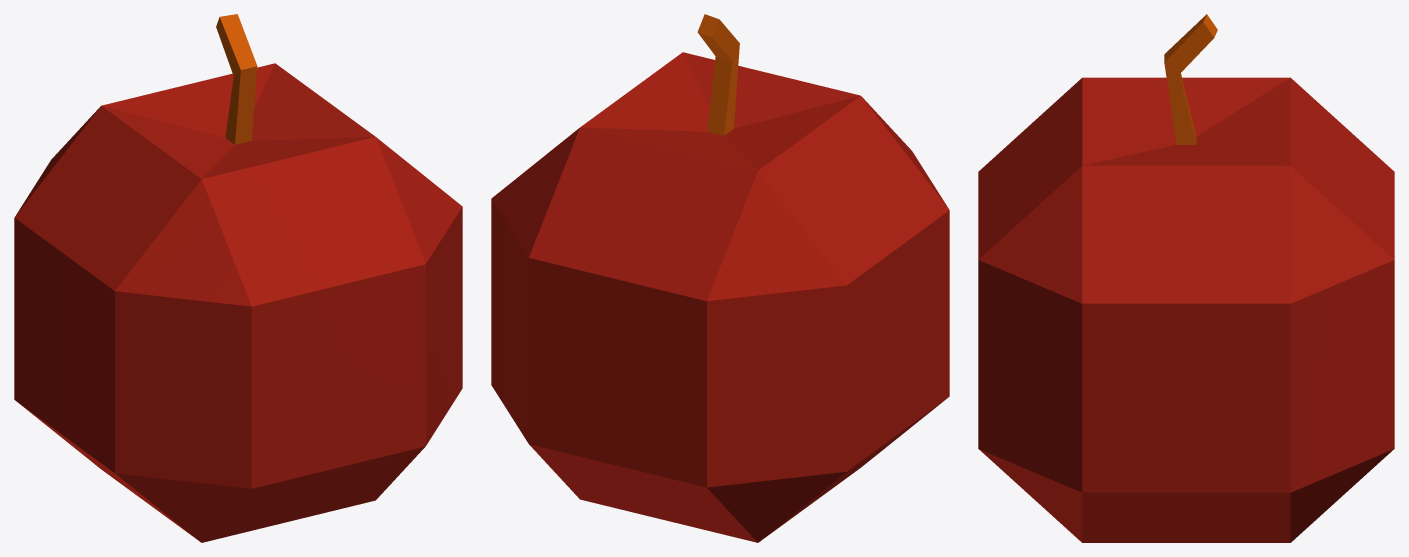
Rendered from apple.fbx.
3 renders of one model, left to right at view 1: azimuth 30°, elevation 25°; view 2: azimuth 150°, elevation 25°; view 3: azimuth 270°, elevation 25°, orthographic. The views are drawn at different scales.
Visible parts, largest first — view 1: Cube; view 2: Cube; view 3: Cube.
Part boxes in pixels (bbox=[...]): Cube: bbox=[14, 14, 462, 542]; Cube: bbox=[491, 14, 949, 542]; Cube: bbox=[978, 14, 1394, 542].
Bounding box in the file's own units: 200 × 255 × 200.
